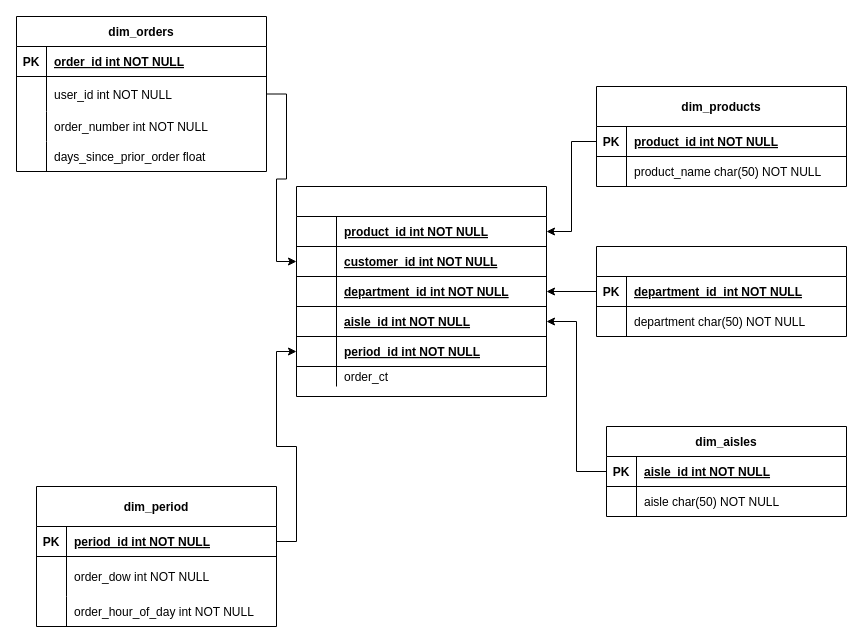
This 863x643 diagram has some shape labels left out. Each missing label, with the box of its shape:
dim_departments: (596, 246, 846, 336)
fact_product_orders: (296, 186, 546, 396)
